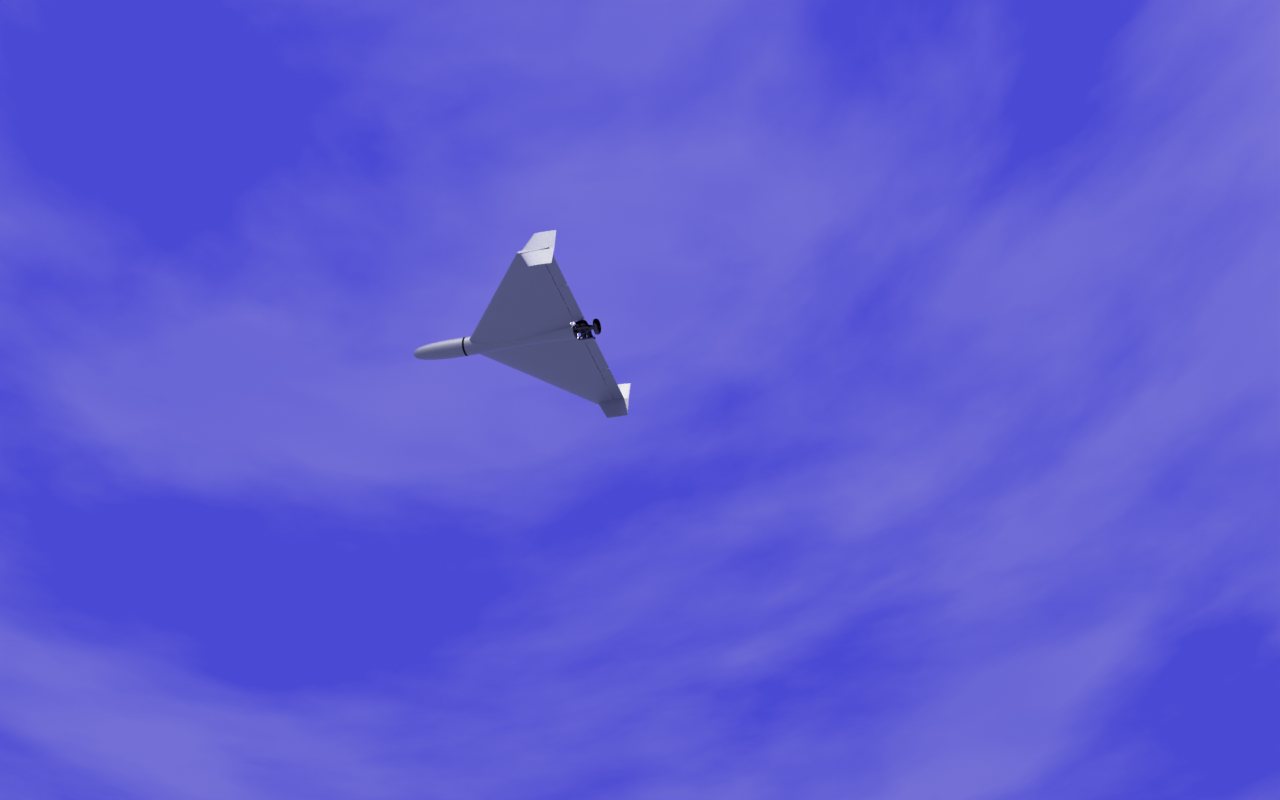shahed: (413, 230, 633, 420)
